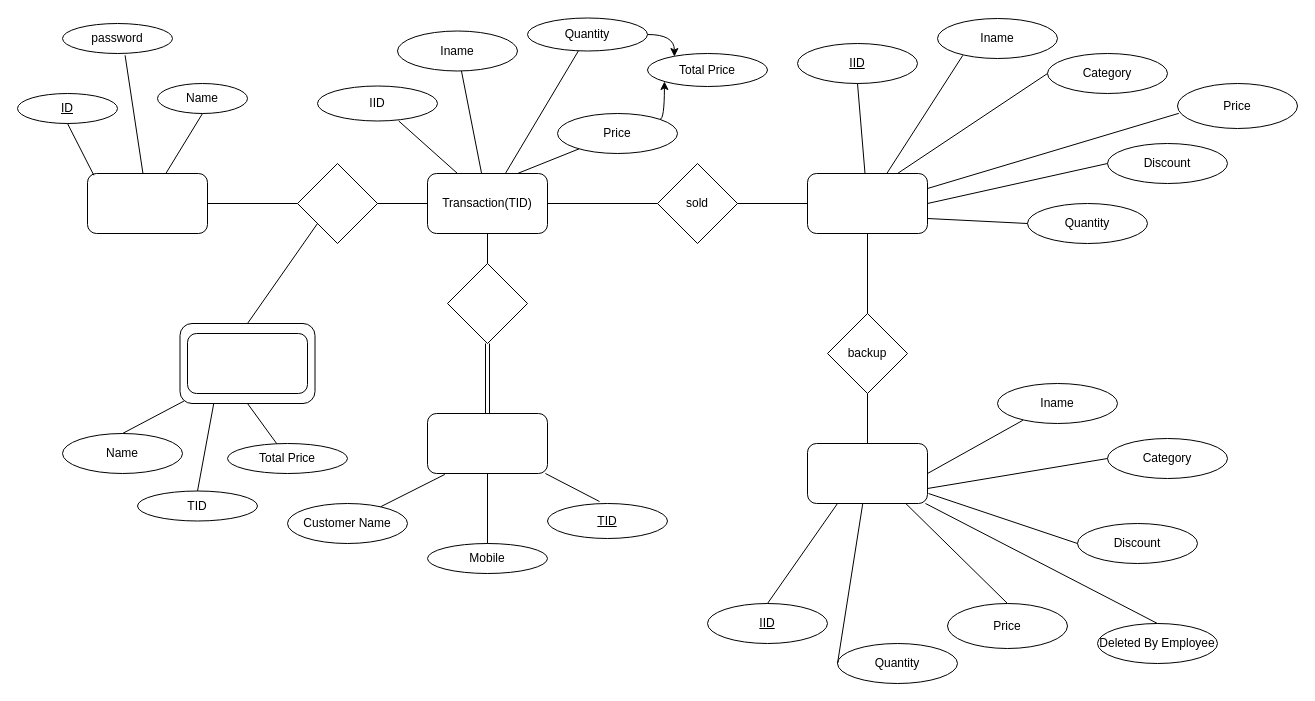
This 1315x701 diagram has some shape labels left out. Here are the shapes that lost their labels. From the top down, the centre of each, then its label:
At pixel 147 203: "Employee".
At pixel 337 203: "handles".
At pixel 867 203: "Items".
At pixel 487 303: "done by".
At pixel 247 363: "Handle".
At pixel 487 443: "Customer".
At pixel 867 473: "Recycle Bin".
